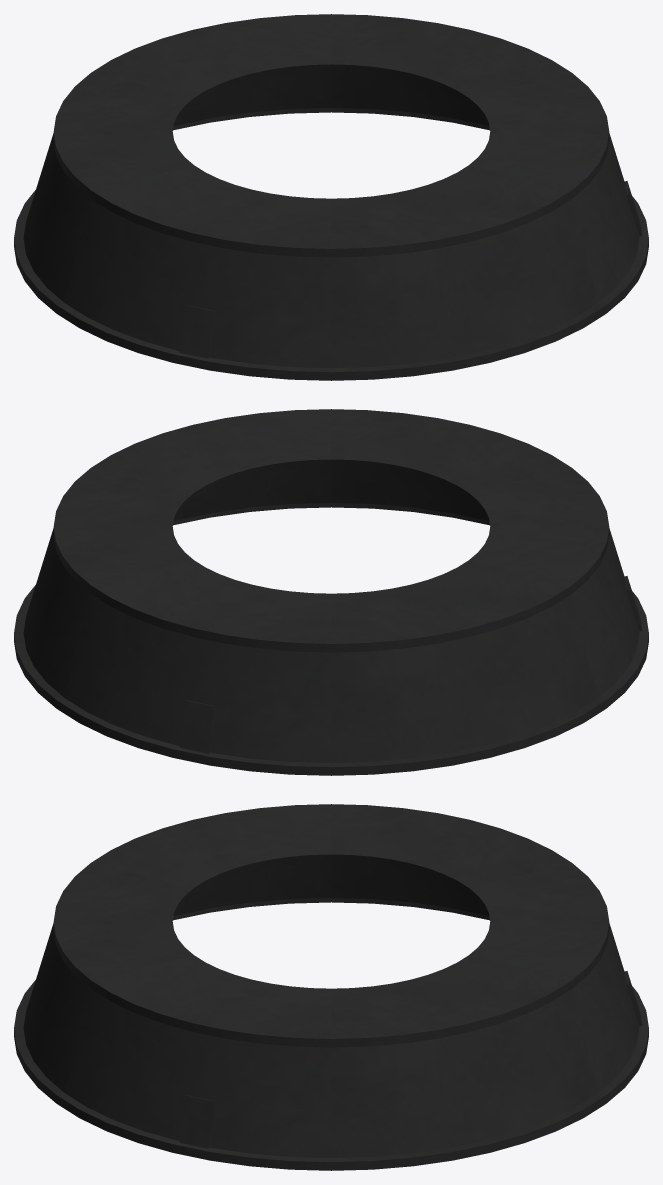
Rendered from rotanev_lv_fairing_s4_1.obj.
3 views of the same model, one above another, from view 1: azimuth 30°, elevation 25°; view 2: azimuth 150°, elevation 25°; view 3: azimuth 270°, elevation 25° (orthographic).
Parts seen in each view (by area): view 1: 1; view 2: 1; view 3: 1.
Part boxes in pixels (box(x1,y1,x2,y2)): 1: box(14, 14, 648, 380); 1: box(14, 409, 648, 775); 1: box(14, 804, 648, 1170).
Size of the model in its own units: 5 by 1 by 5.
